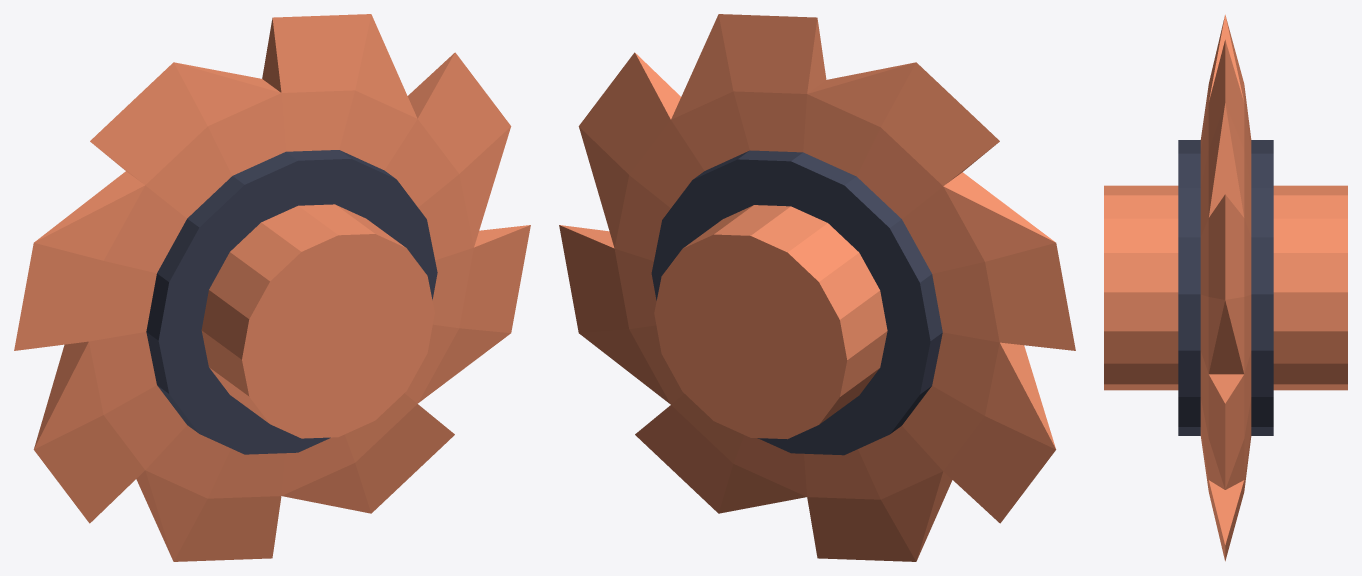
Rendered from spinning saw floor.fbx.
3 views of the same model, side by side, from view 1: azimuth 30°, elevation 25°; view 2: azimuth 150°, elevation 25°; view 3: azimuth 270°, elevation 25° (orthographic). The views are drawn at different scales.
Visible parts, largest first — view 1: Cylinder.002, Cylinder.003; view 2: Cylinder.002, Cylinder.003; view 3: Cylinder.002, Cylinder.003.
Part boxes in pixels (<box>): Cylinder.002: <box>14,14,530,561</box>; Cylinder.003: <box>201,204,434,438</box>; Cylinder.002: <box>559,14,1075,561</box>; Cylinder.003: <box>654,205,887,439</box>; Cylinder.002: <box>1178,14,1273,561</box>; Cylinder.003: <box>1104,185,1347,390</box>.
Bounding box in the file's own units: 1.29 × 1.29 × 0.5716.
